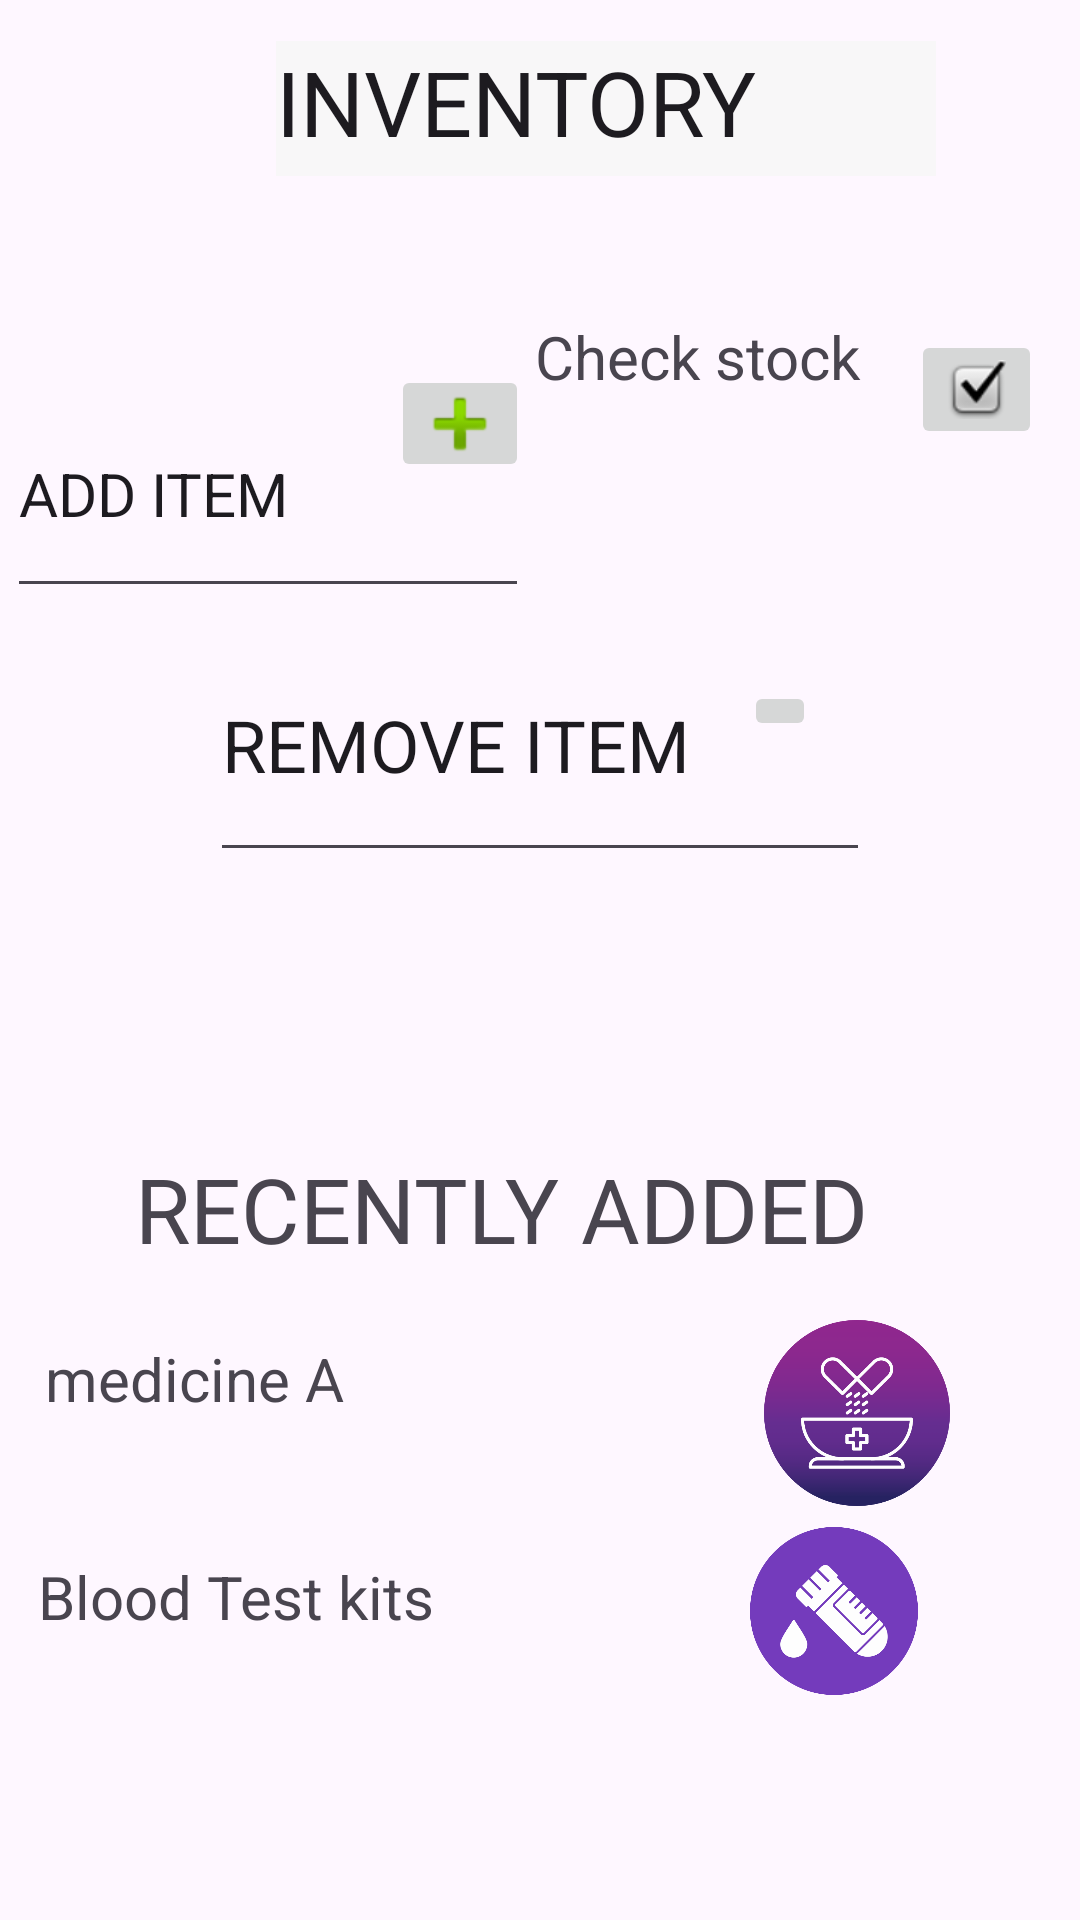

Named icons in this screenshot (1080 x 1920) and their centers, (x=x, y=y):
blood: (x=834, y=1611)
medicine: (x=857, y=1413)
